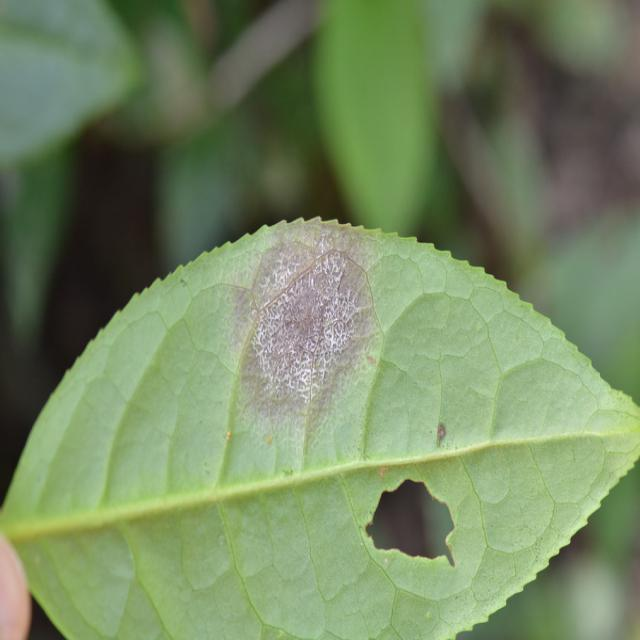Tea exobasidium blight: (238, 220, 379, 402)
